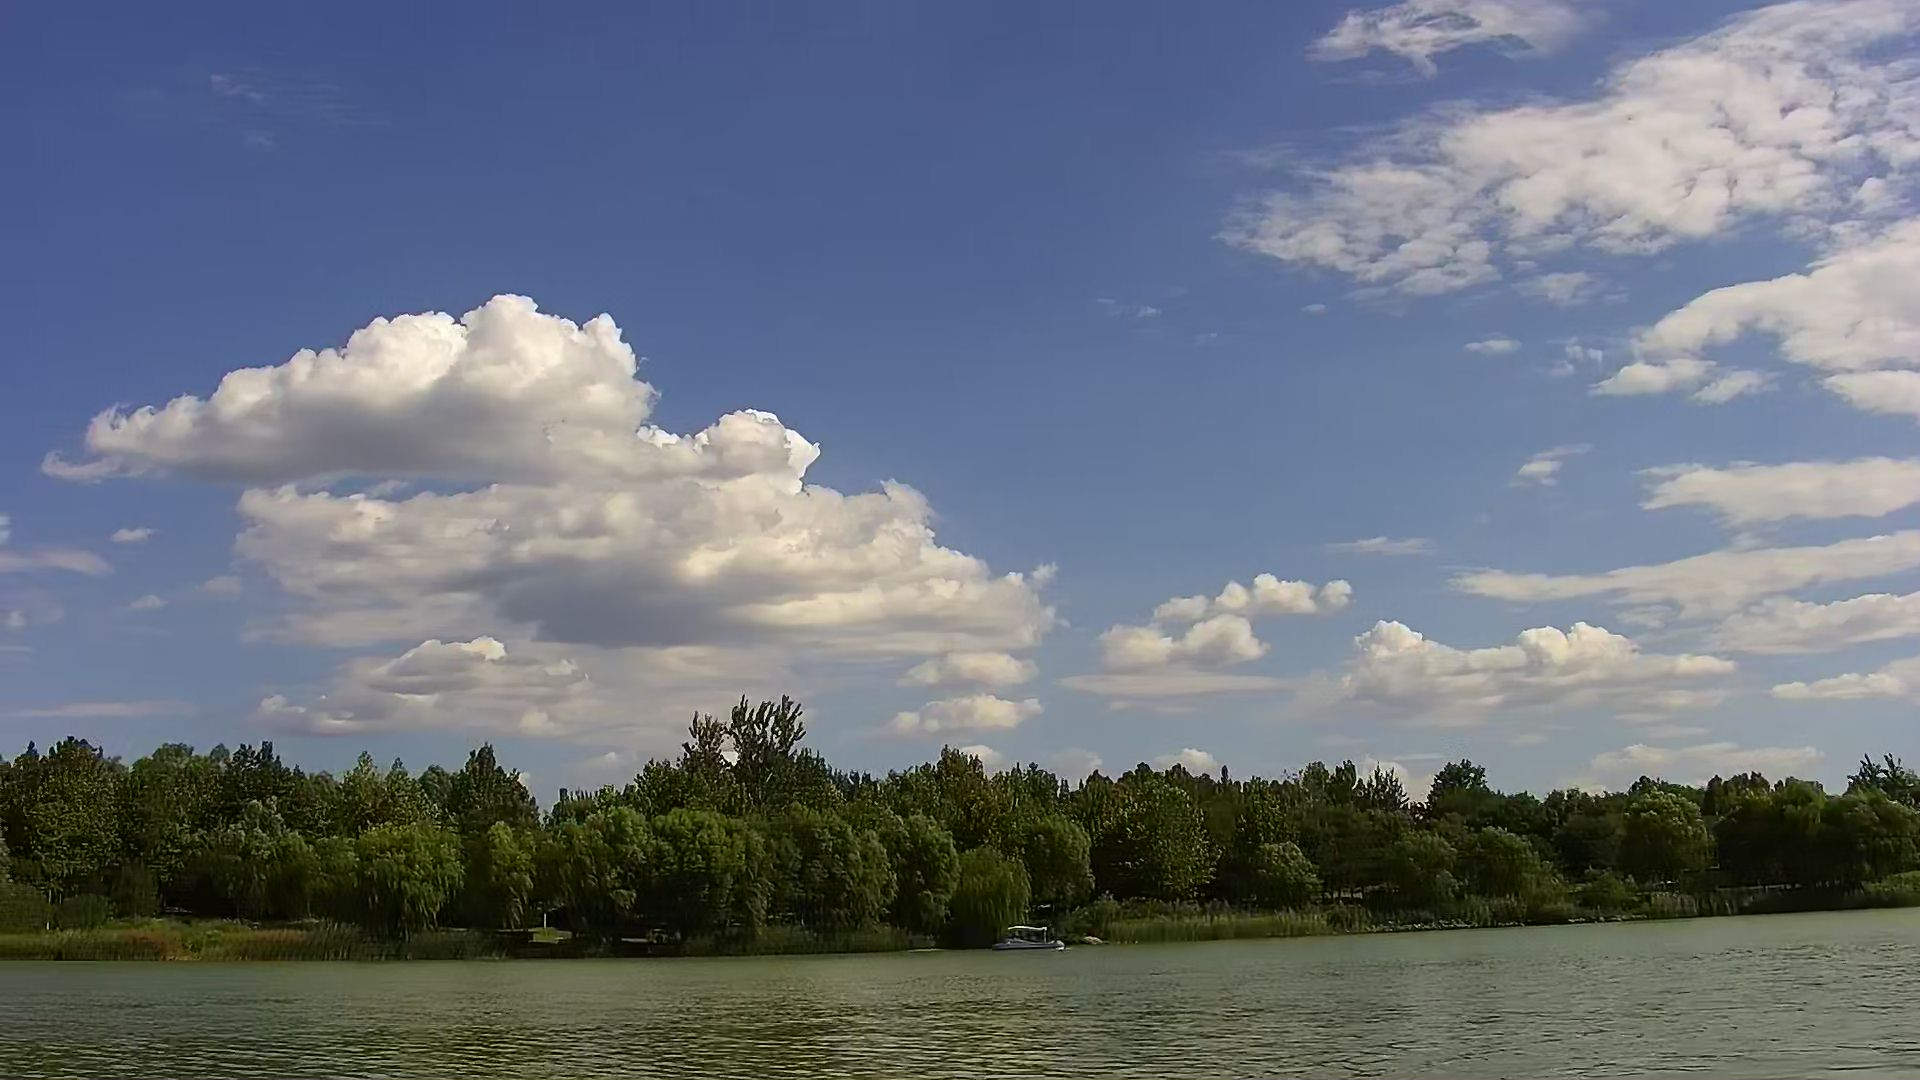boat: (988, 919, 1069, 956)
